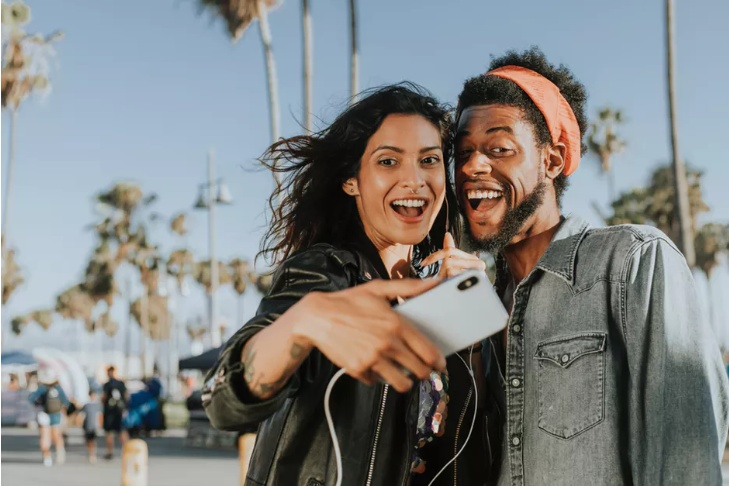face: (353, 115, 450, 248), (452, 107, 539, 243)
